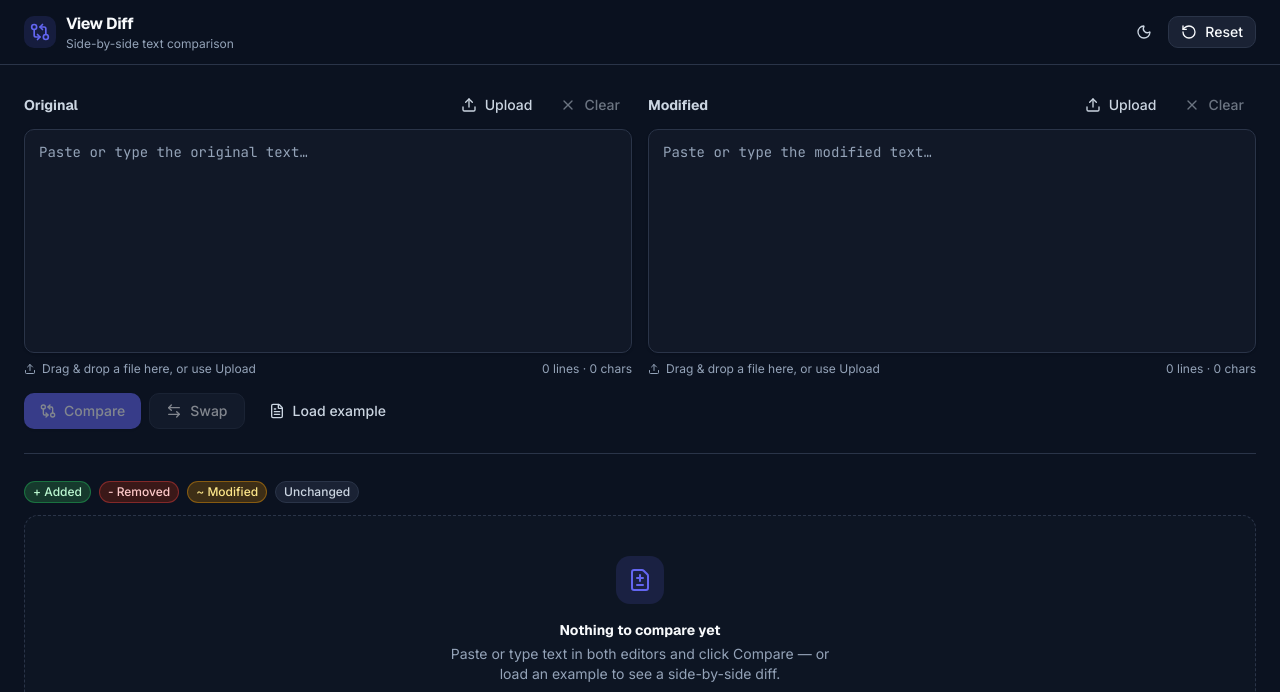
syntax highlighting (US6) › renders highlighted tokens in the diff by default
Type "const x = 1" into the text box labelled "Original".
click(328, 241); type("const x = 1")  # box left=24, top=129, right=632, bottom=353
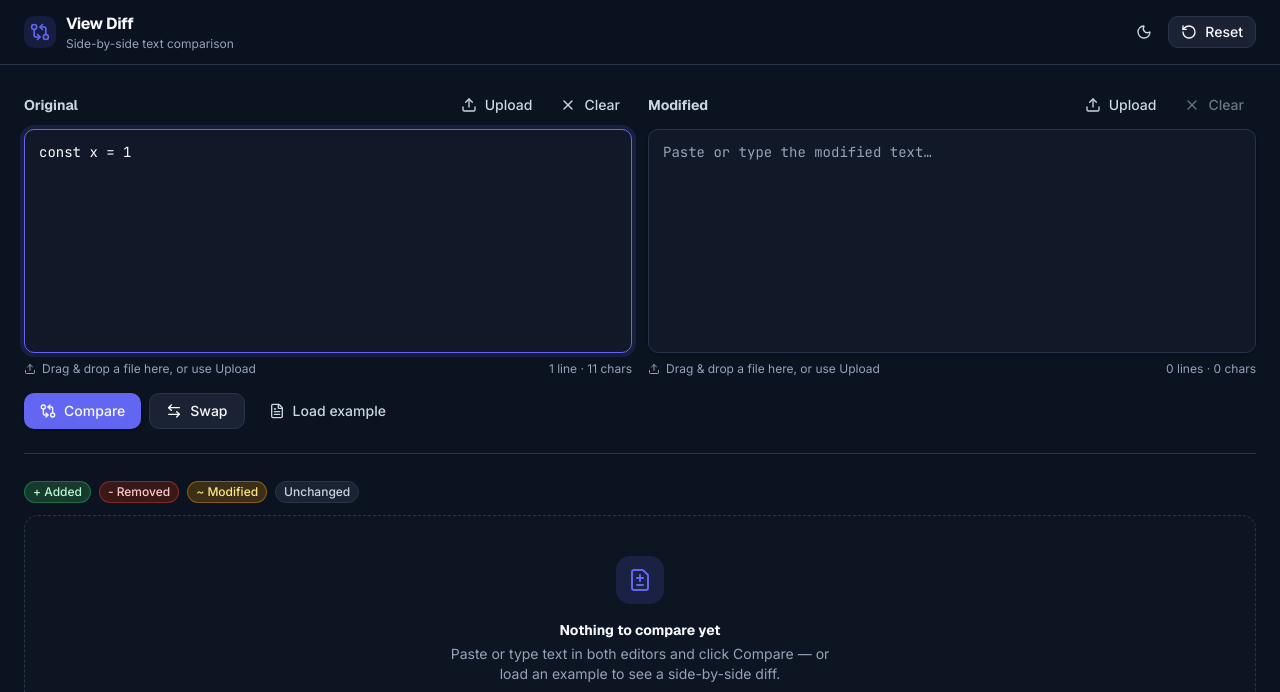
Type "const x = 2" into the text box labelled "Modified".
click(952, 241); type("const x = 2")  # box left=648, top=129, right=1256, bottom=353
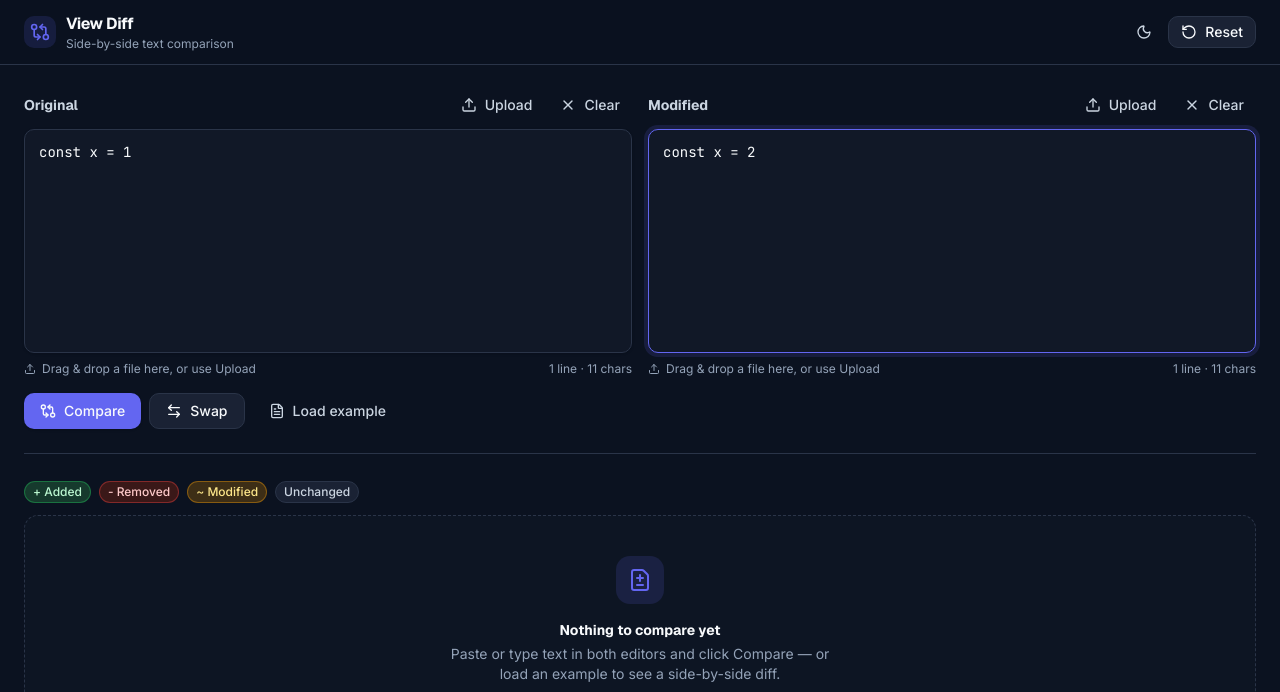
Click the button "Compare".
click(83, 411)  # box left=24, top=393, right=141, bottom=429
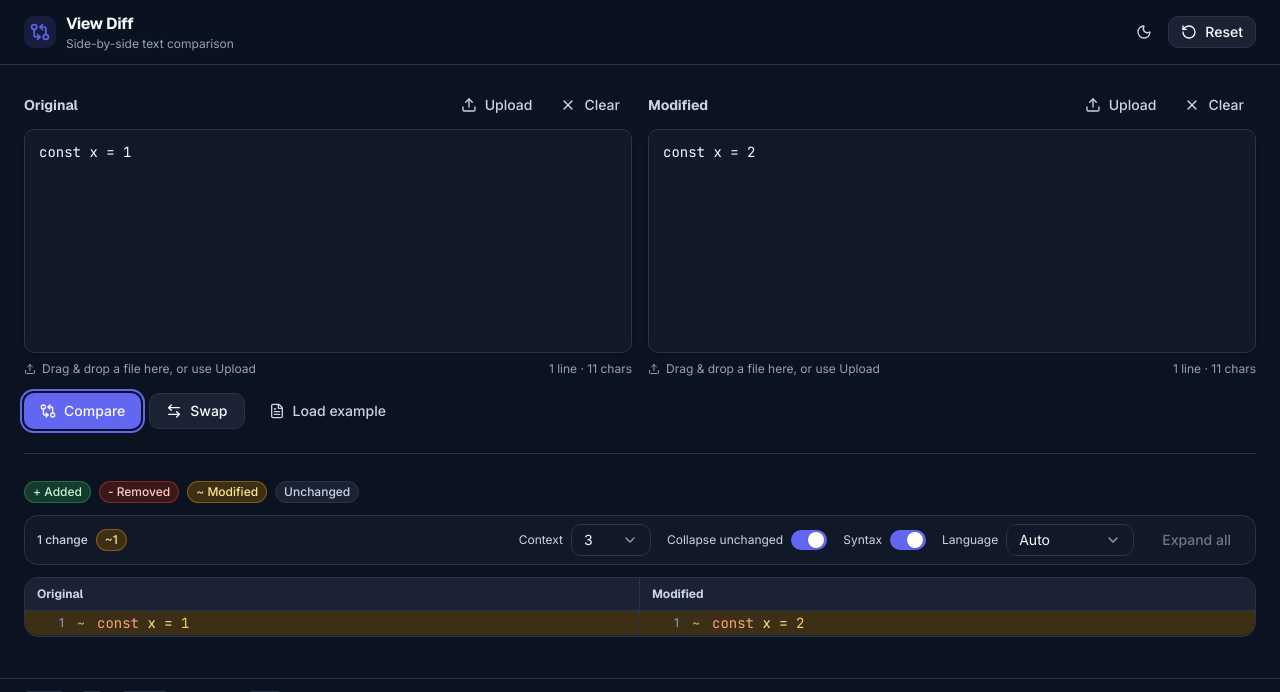
Result: the 1st text "const" is shown at left=97, top=614, right=139, bottom=632
